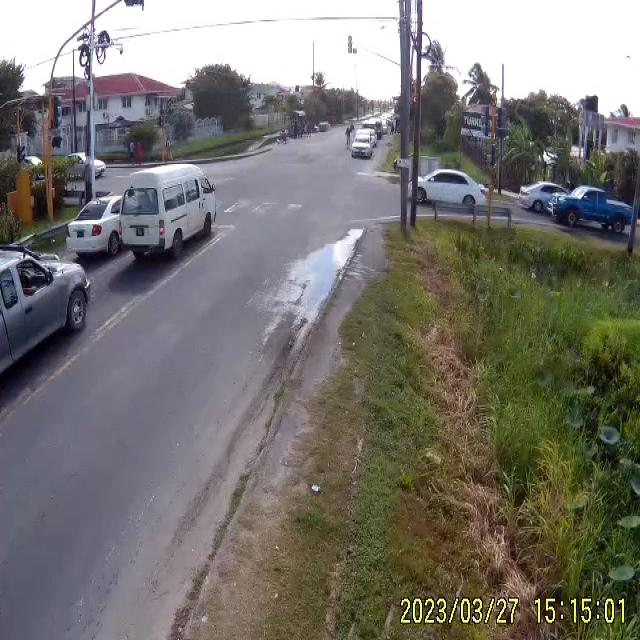car: (1, 246, 92, 441), (118, 164, 215, 260), (553, 188, 633, 234), (68, 196, 126, 258), (417, 171, 489, 208), (519, 182, 570, 214), (352, 134, 375, 158)
